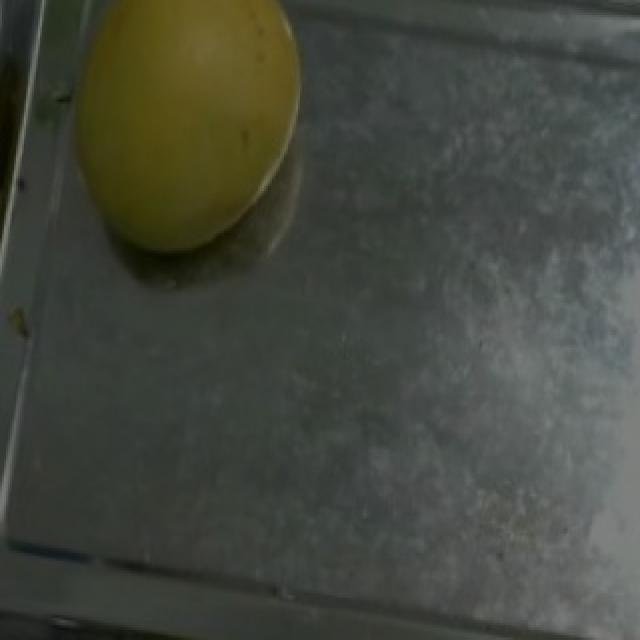fruit: (46, 0, 330, 280)
